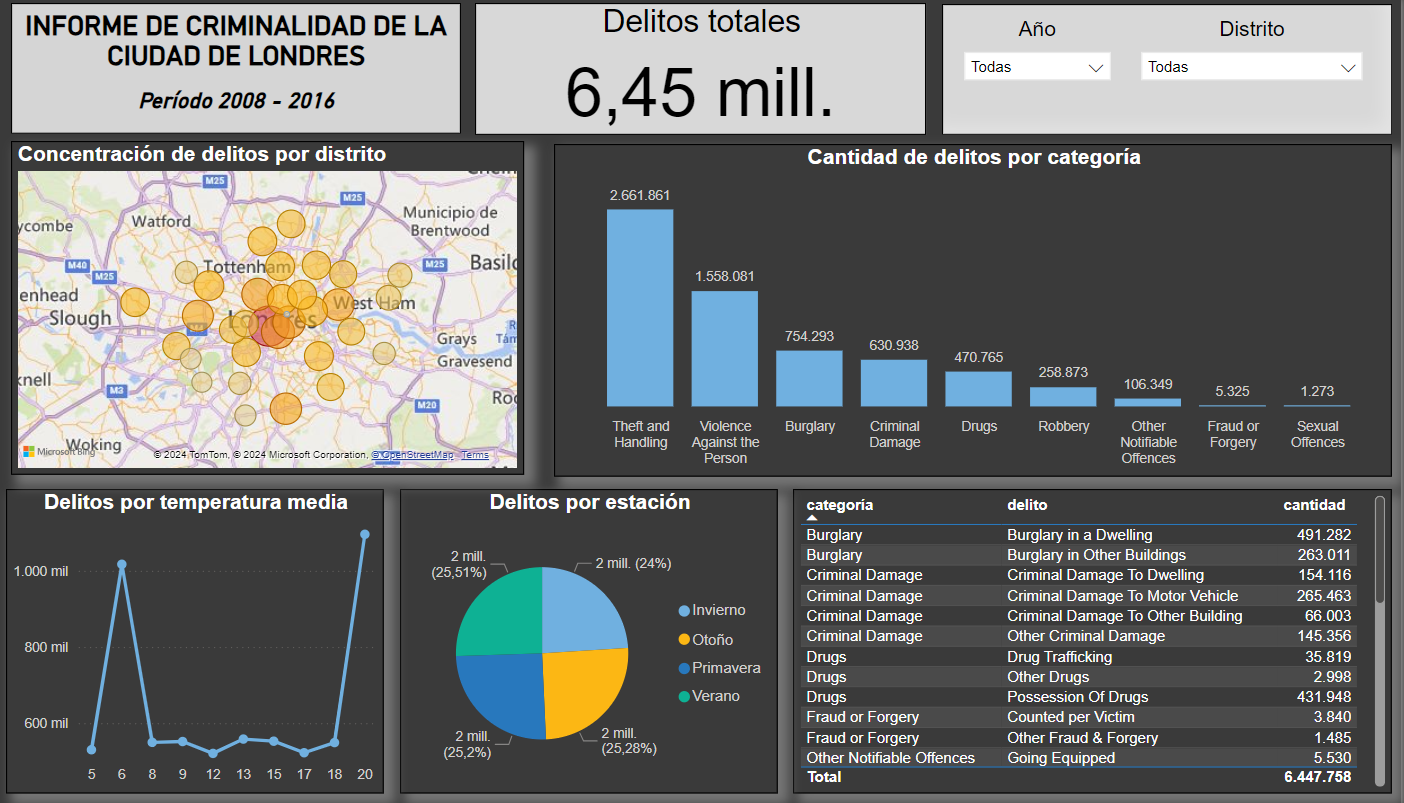

What the dashboard file says about the page in this screenshot:
{"tool":"powerbi","page":{"name":"Delitos Generales","canvas":[1280,720],"ordinal":1},"visuals":[{"type":"textbox","box":[47.9,6.2,399,116.2],"z":0,"group":"g2"},{"type":"shape","box":[873.5,7.2,399.2,116.1],"z":0,"group":"g1"},{"type":"clusteredColumnChart","title":"Cantidad de delitos por categoría","fields":{"Y":["metricas.#cant. crimenes"],"Category":["dim_crimen.categoria"]},"box":[529.5,131.2,743.2,294.7],"z":0},{"type":"actionButton","box":[47.9,6.2,399,116.2],"z":1000,"group":"g2"},{"type":"card","title":"Delitos totales","fields":{"Values":["metricas.#cant. crimenes"]},"box":[459.3,6.5,399.9,116.6],"z":1000},{"type":"tableEx","fields":{"Values":["dim_crimen.categoria","dim_crimen.crimen","metricas.#cant. crimenes"]},"box":[741.6,437.2,531.1,270.4],"z":2000},{"type":"pieChart","title":"Delitos por estación","fields":{"Category":["dim_clima.estacion"],"Y":["metricas.002 #cant. crimenes"]},"box":[392.7,437.2,335,270.4],"z":3000},{"type":"slicer","title":"Año","fields":{"Values":["dim_calendario.#Año"]},"box":[883,18.3,149.5,87.5],"z":4000,"group":"g1"},{"type":"lineChart","title":"Delitos por temperatura media","fields":{"Y":["metricas.#cant. crimenes"],"Category":["dim_clima.temperatura_media"]},"box":[43.7,437.2,335,270.4],"z":4000},{"type":"map","title":"Concentración de delitos por distrito","fields":{"Size":["metricas.002 #cant. crimenes"],"Y":["dim_distrito.latitud"],"X":["dim_distrito.longitud"]},"box":[47.9,131.2,454.9,296.2],"z":5000},{"type":"group","id":"g1","title":"Grupo 1","box":[873.5,7.2,398.7,116],"z":6000},{"type":"group","id":"g2","title":"Grupo 1","box":[47.9,6.2,399,116.2],"z":7000},{"type":"slicer","title":"Distrito","fields":{"Values":["dim_distrito.distrito"]},"box":[1040.5,18.3,216.3,85.9],"z":8000,"group":"g1"}]}

Visuals, with their boxes in screenshot pixels (x1, y1, x2, y2), scaled from the page's 1280x720 canvas onto the 1404x803 screenshot:
textbox: [x1=53, y1=7, x2=490, y2=137]
shape: [x1=958, y1=8, x2=1396, y2=138]
"Cantidad de delitos por categoría" clusteredColumnChart: [x1=581, y1=146, x2=1396, y2=475]
actionButton: [x1=53, y1=7, x2=490, y2=137]
"Delitos totales" card: [x1=504, y1=7, x2=942, y2=137]
tableEx - dim_crimen.categoria x dim_crimen.crimen: [x1=813, y1=488, x2=1396, y2=789]
"Delitos por estación" pieChart: [x1=431, y1=488, x2=798, y2=789]
"Año" slicer: [x1=969, y1=20, x2=1133, y2=118]
"Delitos por temperatura media" lineChart: [x1=48, y1=488, x2=415, y2=789]
"Concentración de delitos por distrito" map: [x1=53, y1=146, x2=552, y2=477]
"Grupo 1" group: [x1=958, y1=8, x2=1395, y2=137]
"Grupo 1" group: [x1=53, y1=7, x2=490, y2=137]
"Distrito" slicer: [x1=1141, y1=20, x2=1379, y2=116]
